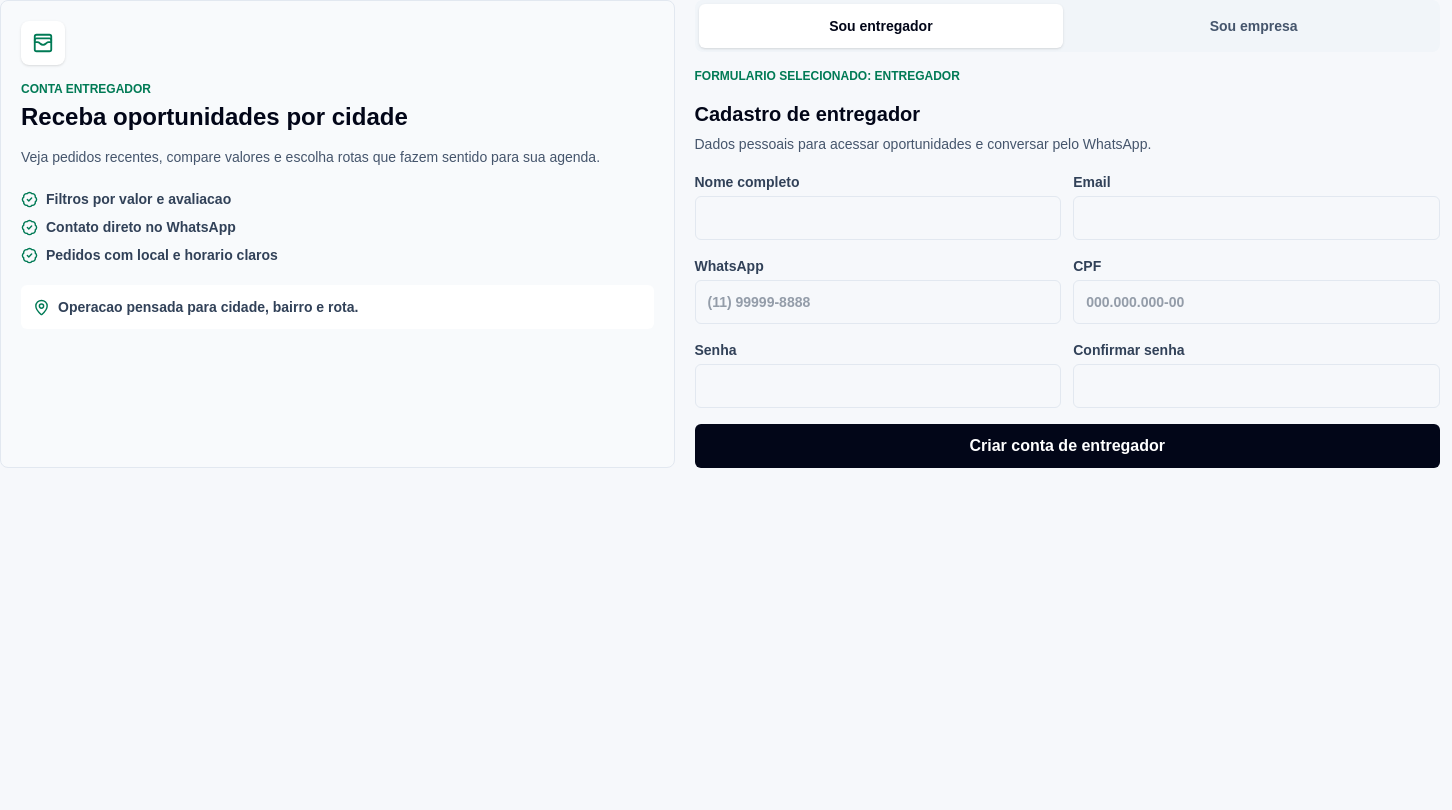
Scenario: RegisterForm › masks CNPJ when the account type is business
Click the button "Sou empresa" at (1254, 26), box [1071,4,1436,48]
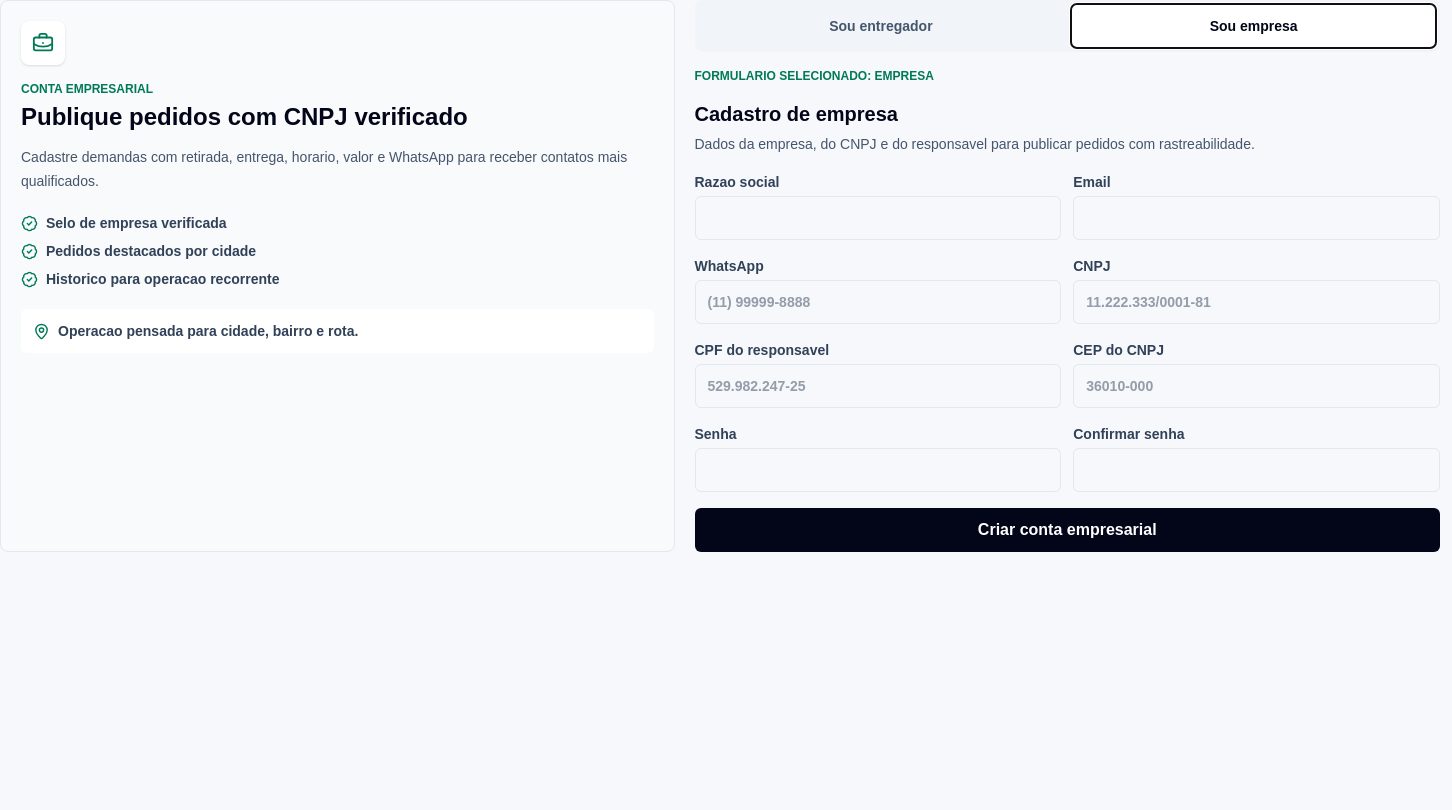
Type "11222333000181" into the field labelled "CNPJ" at (1257, 302), box [1073,280,1440,324]
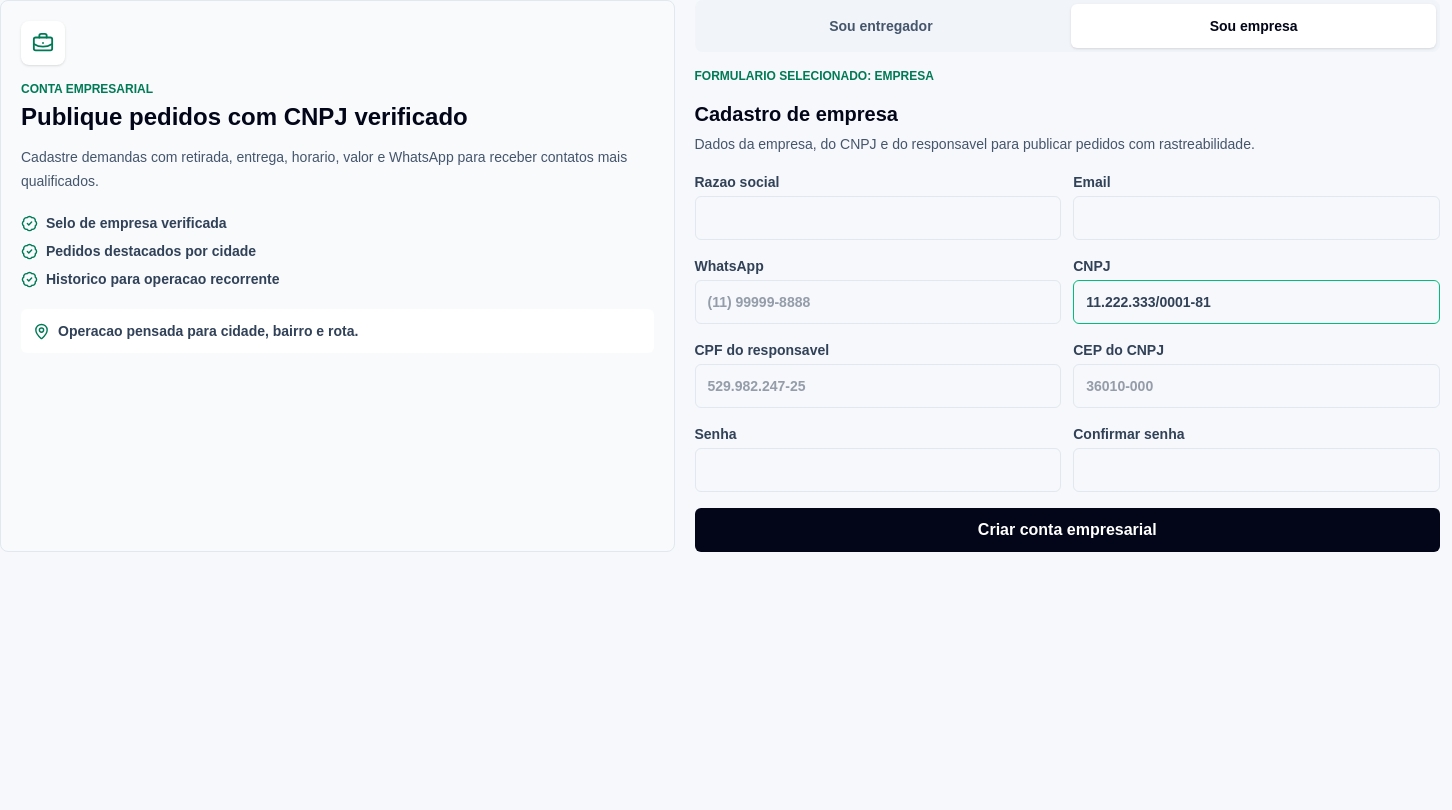
Type "52998224725" into the field labelled "CPF do responsavel" at (878, 386), box [694,364,1061,408]
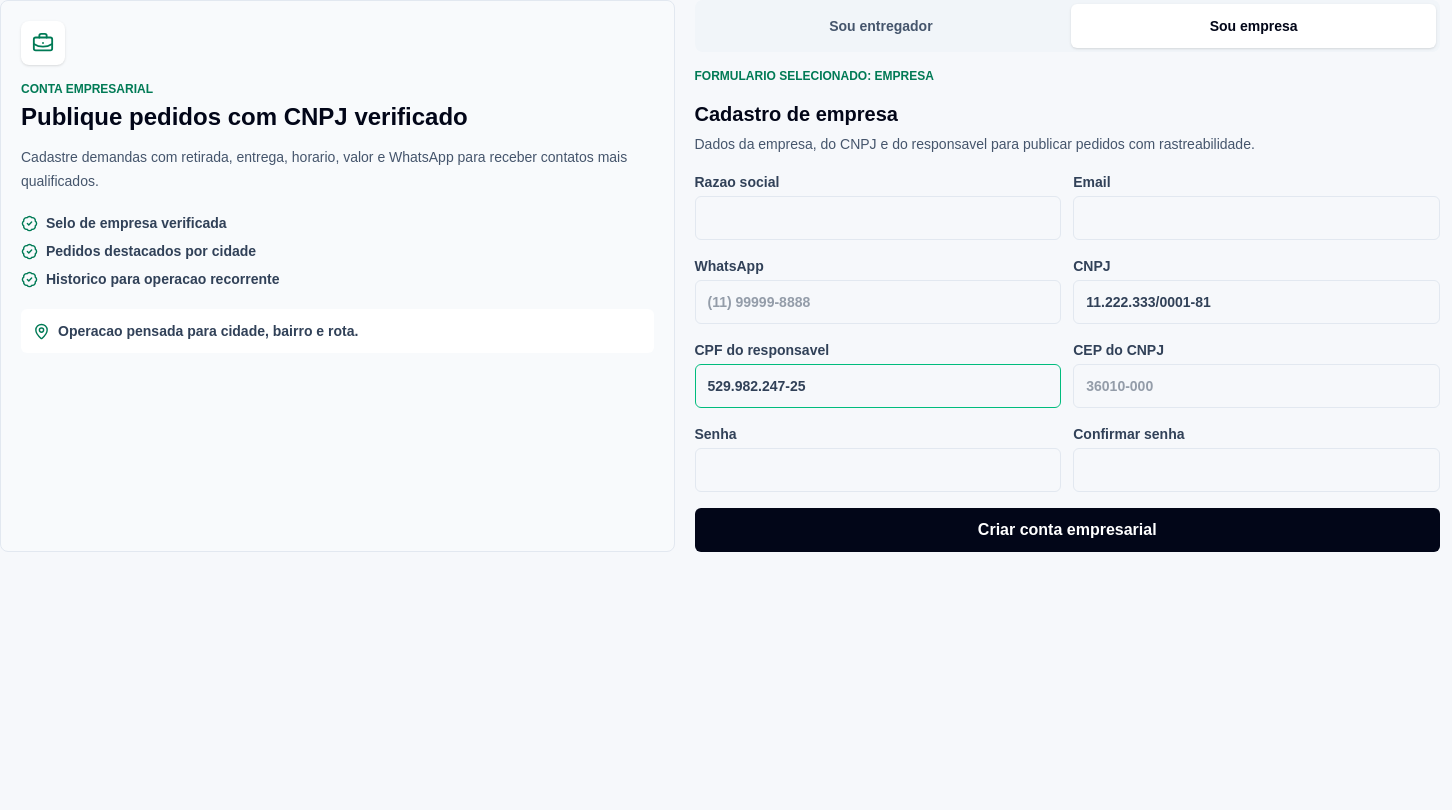
Type "36010000" into the field labelled "CEP do CNPJ" at (1257, 386), box [1073,364,1440,408]
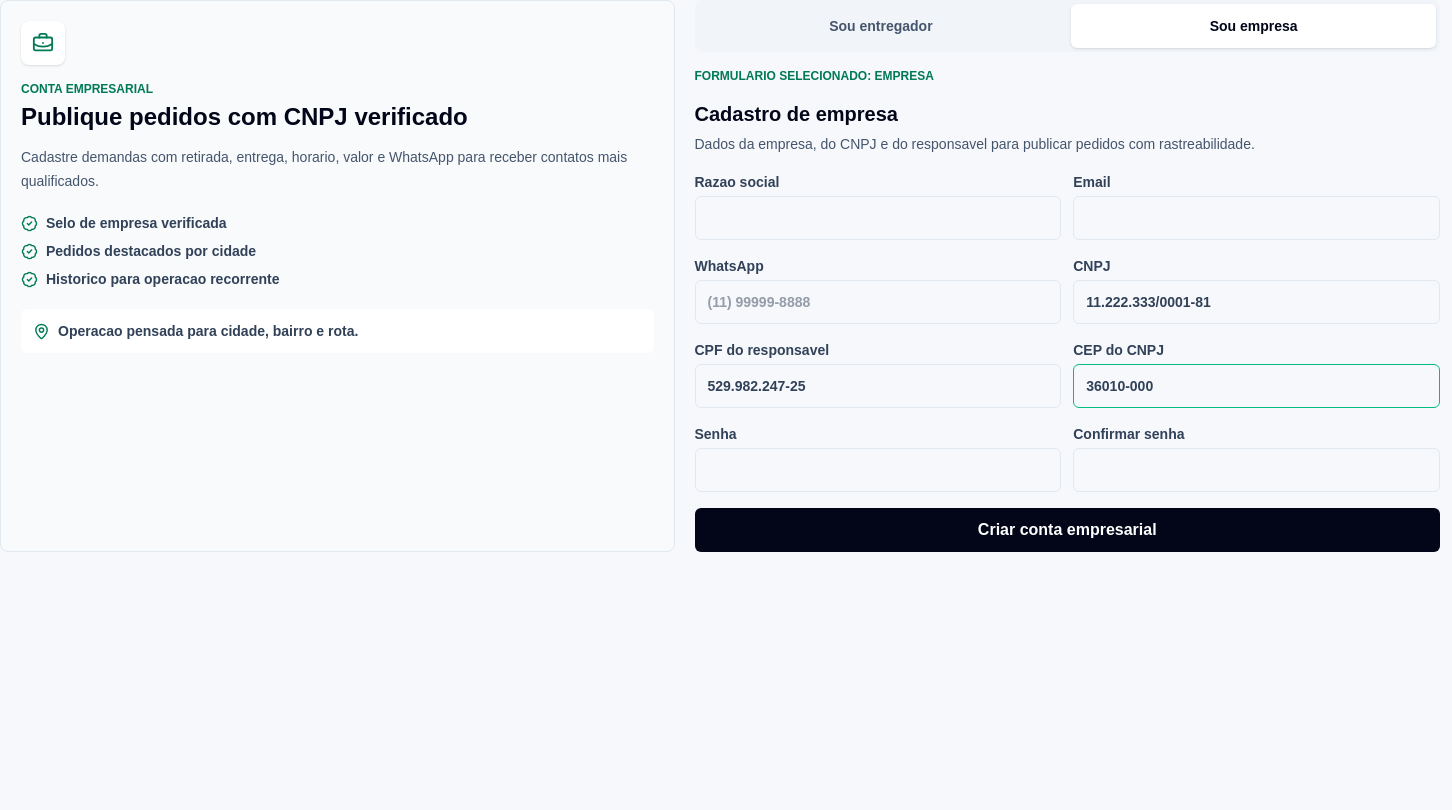
Expected: the field labelled "CNPJ" holds "11.222.333/0001-81", [1073,280,1440,324]
Expected: the field labelled "CPF do responsavel" holds "529.982.247-25", [694,364,1061,408]
Expected: the field labelled "CEP do CNPJ" holds "36010-000", [1073,364,1440,408]
